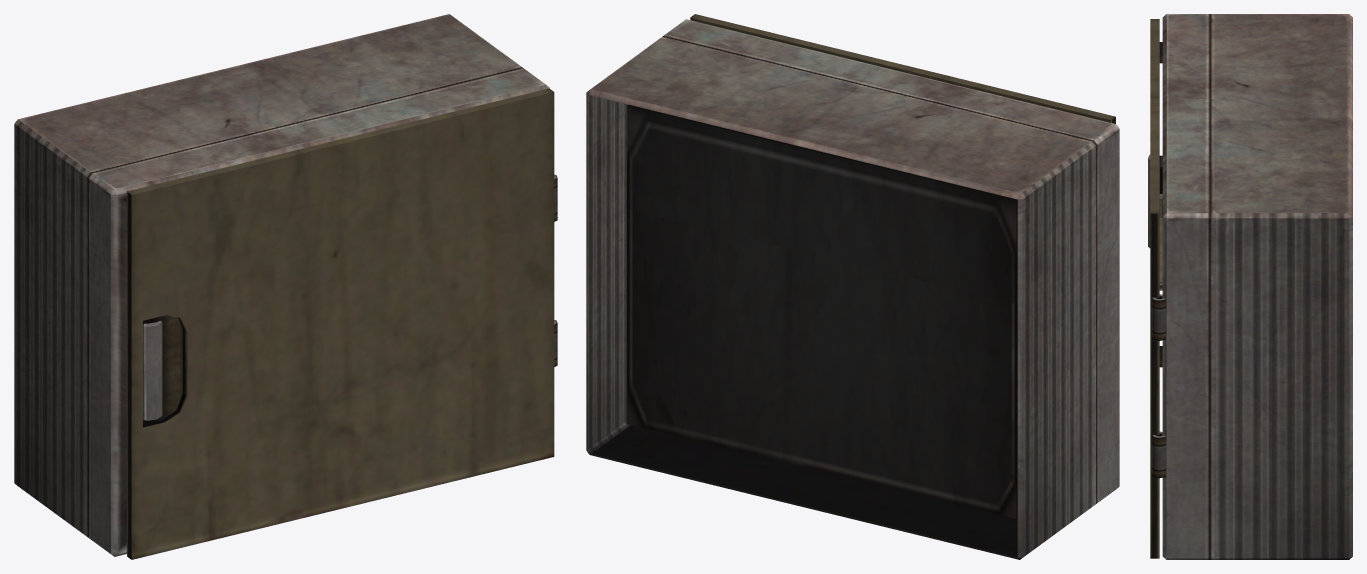
The model's file is 01_05_flashlight_box.dae.
The picture shows the model from 3 angles, left to right: view 1: azimuth 30°, elevation 25°; view 2: azimuth 150°, elevation 25°; view 3: azimuth 270°, elevation 25°; orthographic projection. The views are drawn at different scales.
Parts seen in each view (by area): view 1: flashlight_box_door, flashlight_box; view 2: flashlight_box, flashlight_box_door; view 3: flashlight_box, flashlight_box_door.
Boxes of the visible parts, x1,y1,x2,y2 form: flashlight_box_door: (127,88,554,559); flashlight_box: (14,14,557,556); flashlight_box: (586,19,1119,559); flashlight_box_door: (690,14,1115,123); flashlight_box: (1151,14,1352,559); flashlight_box_door: (1148,19,1162,558).
Bounding box in the file's own units: 0.7338 × 0.5822 × 0.3117.
